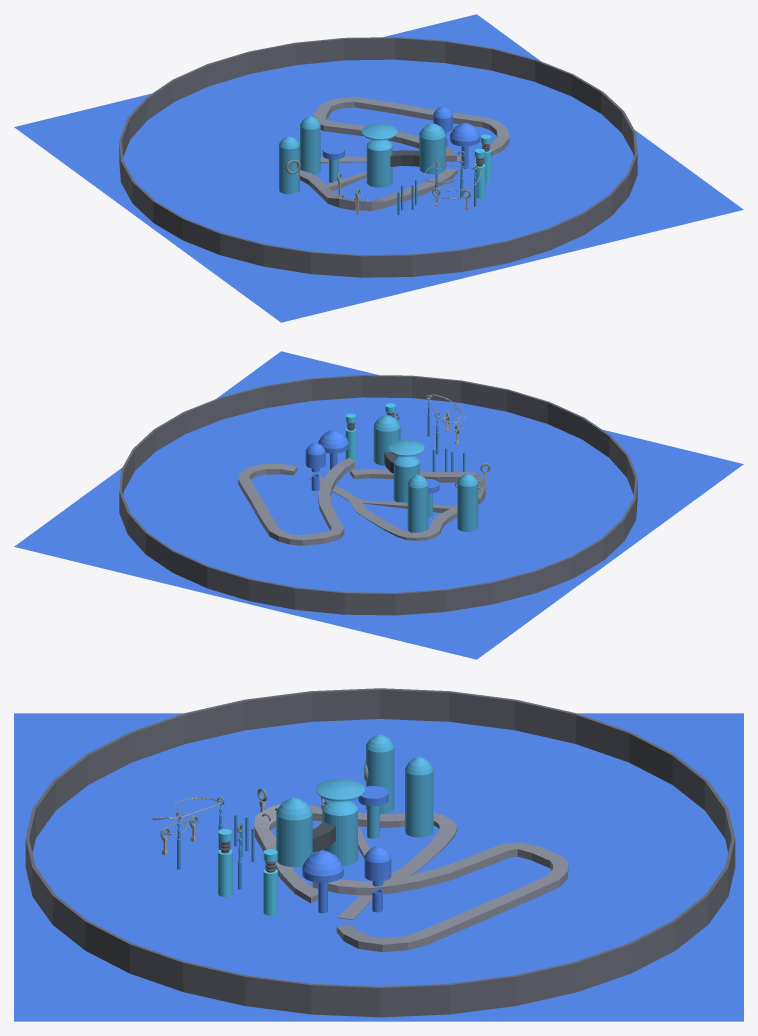
Rendered from HoverBoardLevel_WhiteBox_01.fbx.
The picture shows the model from 3 angles, top to bottom: view 1: azimuth 30°, elevation 25°; view 2: azimuth 150°, elevation 25°; view 3: azimuth 270°, elevation 25°; orthographic projection. The views are drawn at different scales.
Visible parts, largest first — view 1: Plane, Cylinder.022, Cube.016, Cylinder.000, Cylinder.004, Cylinder.005, Cylinder.006, Cylinder.007; view 2: Plane, Cylinder.022, Cube.016, Cylinder.000, Cylinder.006, Cylinder.005, Cylinder.004, Cylinder.007, Cylinder.008; view 3: Plane, Cylinder.022, Cube.016, Cylinder.000, Cylinder.004, Cylinder.005, Cylinder.006, Cylinder.007, Cylinder.008, Cylinder, Cylinder.015, Cube.017.
Boxes of the visible parts, <box> form: Plane: <box>14,14,743,322</box>; Cylinder.022: <box>119,37,637,277</box>; Cube.016: <box>300,97,509,210</box>; Cylinder.000: <box>361,123,397,187</box>; Cylinder.004: <box>419,123,445,174</box>; Cylinder.005: <box>300,116,320,174</box>; Cylinder.006: <box>279,136,299,194</box>; Cylinder.007: <box>450,123,480,168</box>; Plane: <box>14,351,743,659</box>; Cylinder.022: <box>119,375,637,615</box>; Cube.016: <box>238,457,485,545</box>; Cylinder.000: <box>388,440,424,502</box>; Cylinder.006: <box>457,474,478,531</box>; Cylinder.005: <box>407,474,428,532</box>; Cylinder.004: <box>373,415,400,465</box>; Cylinder.007: <box>318,430,348,469</box>; Cylinder.008: <box>305,443,325,490</box>; Plane: <box>14,713,743,1021</box>; Cylinder.022: <box>25,688,735,1017</box>; Cube.016: <box>254,804,568,952</box>; Cylinder.000: <box>315,778,364,865</box>; Cylinder.004: <box>276,797,312,867</box>; Cylinder.005: <box>405,757,433,837</box>; Cylinder.006: <box>366,734,394,813</box>; Cylinder.007: <box>302,850,343,913</box>; Cylinder.008: <box>364,846,391,912</box>; Cylinder: <box>218,849,232,896</box>; Cylinder.015: <box>263,869,277,915</box>; Cube.017: <box>312,821,335,852</box>.
Size of the model in its own units: 29965 by 6961 by 29965.
